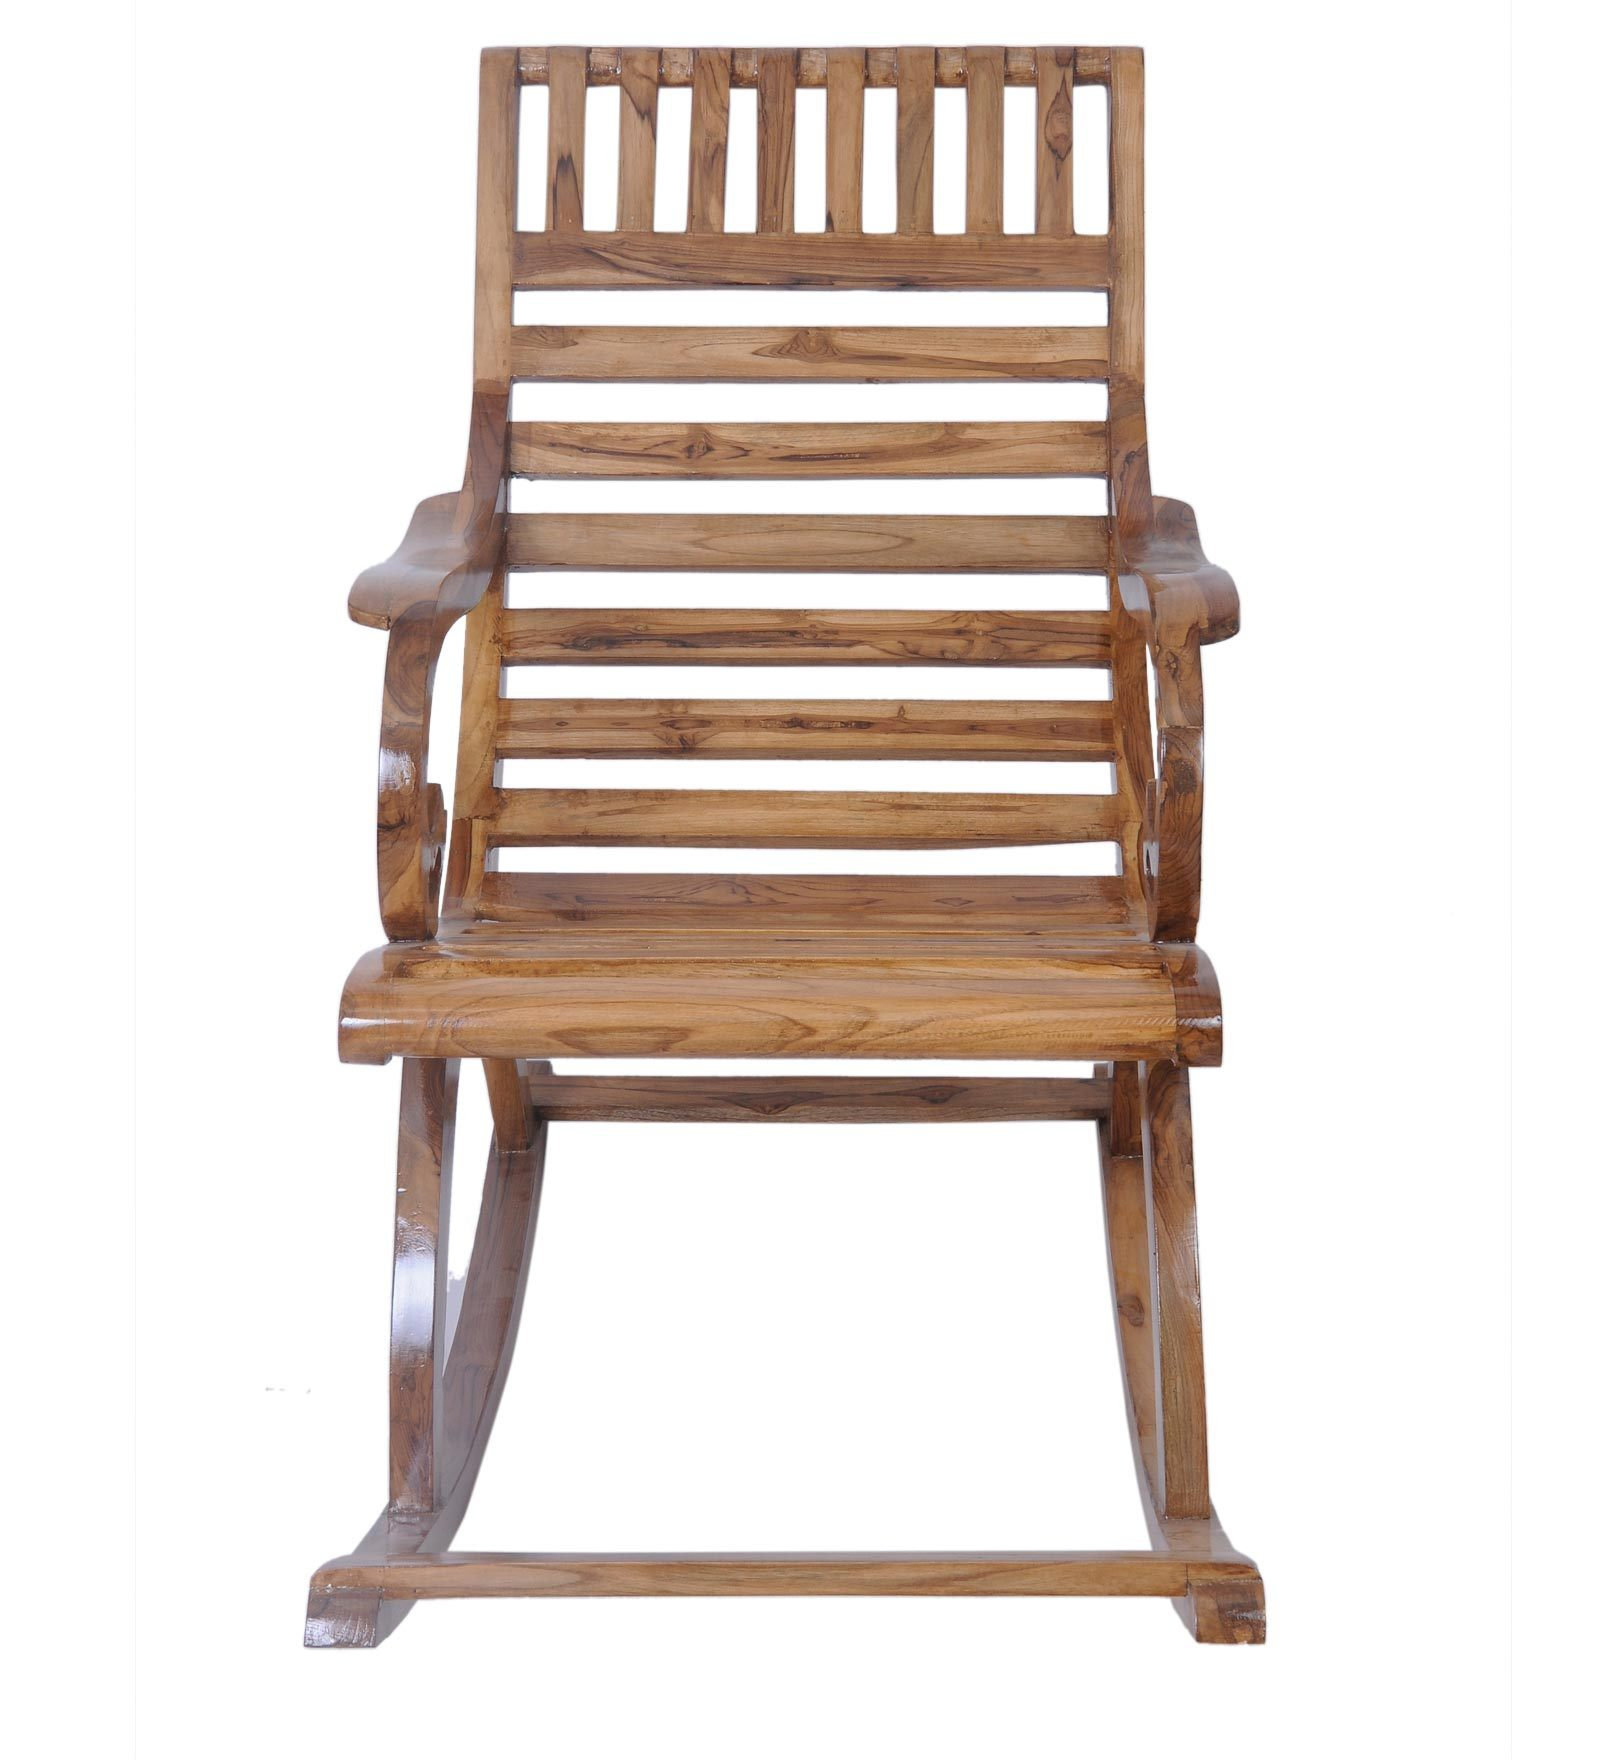Teak Wood Rocking Chair in Light Teak Finish by Karigar: (251, 9, 1336, 1689)
